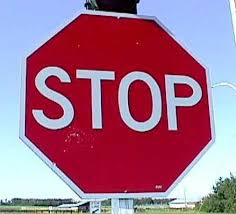stop sign: (18, 9, 215, 200)
